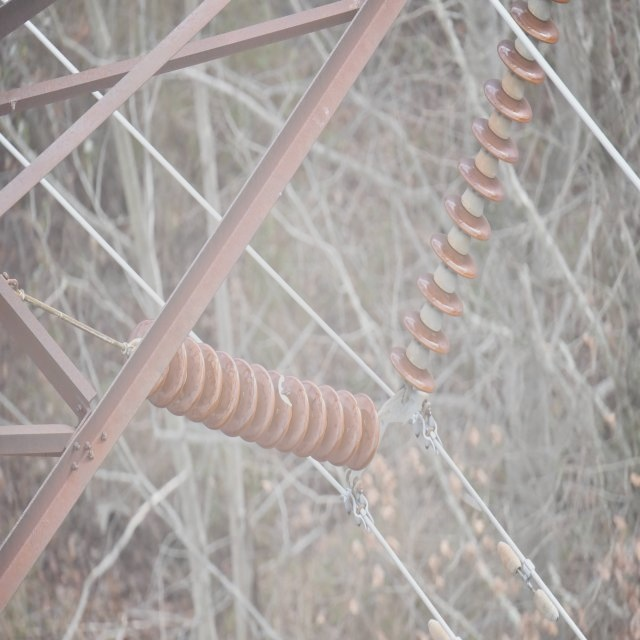broken: (276, 371, 292, 408)
insulator: (389, 3, 557, 395), (124, 316, 380, 469)
